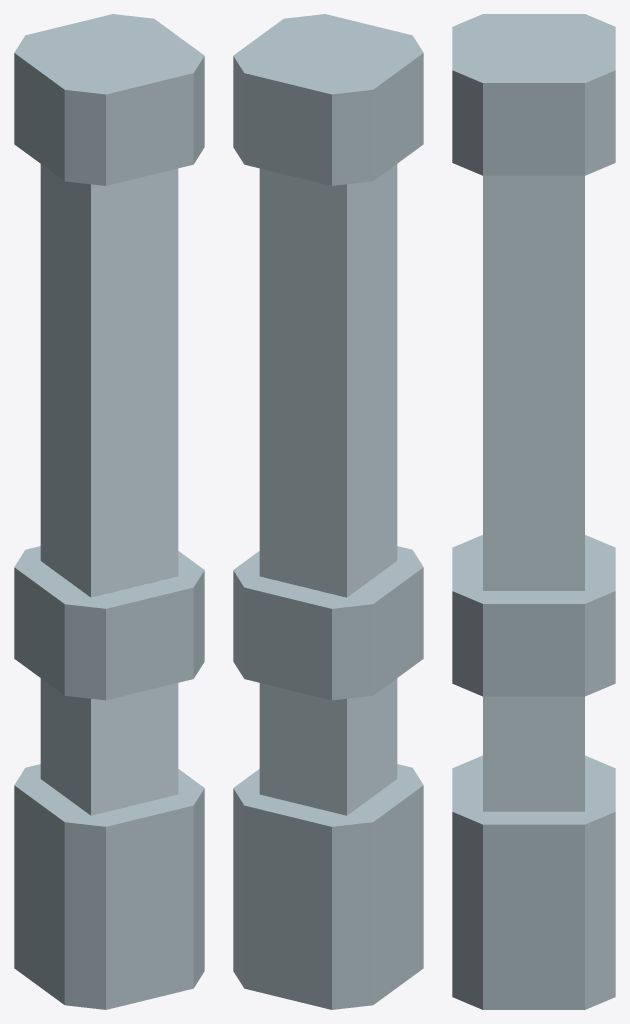
Rendered from pillarStone.glb.
3 views of the same model, side by side, from view 1: azimuth 30°, elevation 25°; view 2: azimuth 150°, elevation 25°; view 3: azimuth 270°, elevation 25° (orthographic).
Visible parts, largest first — view 1: pillarStone; view 2: pillarStone; view 3: pillarStone.
Part boxes in pixels (x1,y1,x2,y2): pillarStone: [14, 14, 204, 1009]; pillarStone: [233, 14, 423, 1009]; pillarStone: [452, 14, 615, 1009].
Size of the model in its own units: 0.16 by 1 by 0.16.
